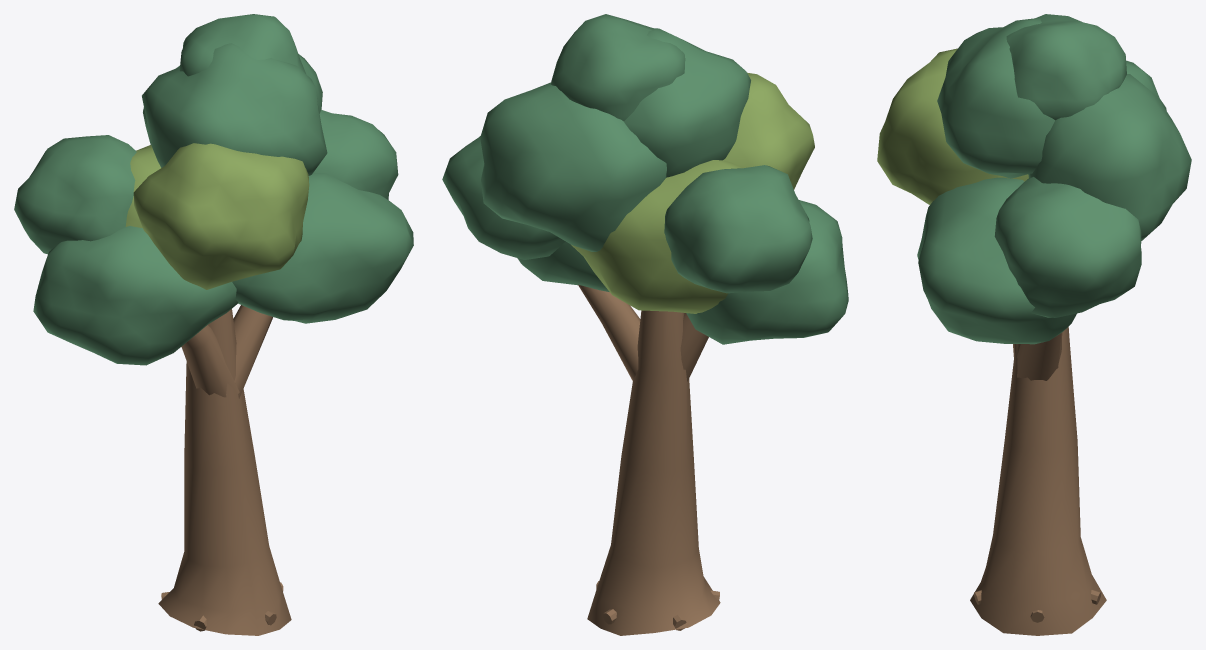
Rendered from AH03_TreeA.fbx.
The picture shows the model from 3 angles, left to right: view 1: azimuth 30°, elevation 25°; view 2: azimuth 150°, elevation 25°; view 3: azimuth 270°, elevation 25°; orthographic projection. The views are drawn at different scales.
Visible parts, largest first — view 1: AH03_TreeA_AH03_Leaf, AH03_TreeA_AH03_Bark, AH03_TreeA_AH03_LeafWarm; view 2: AH03_TreeA_AH03_Leaf, AH03_TreeA_AH03_Bark, AH03_TreeA_AH03_LeafWarm; view 3: AH03_TreeA_AH03_Leaf, AH03_TreeA_AH03_Bark, AH03_TreeA_AH03_LeafWarm.
Part boxes in pixels (<box>): AH03_TreeA_AH03_Leaf: <box>14,14,413,365</box>; AH03_TreeA_AH03_Bark: <box>158,305,291,635</box>; AH03_TreeA_AH03_LeafWarm: <box>125,143,309,289</box>; AH03_TreeA_AH03_Leaf: <box>442,14,848,344</box>; AH03_TreeA_AH03_Bark: <box>578,284,720,635</box>; AH03_TreeA_AH03_LeafWarm: <box>571,72,814,313</box>; AH03_TreeA_AH03_Leaf: <box>917,14,1191,344</box>; AH03_TreeA_AH03_Bark: <box>970,327,1106,635</box>; AH03_TreeA_AH03_LeafWarm: <box>877,48,1028,204</box>.
Bounding box in the file's own units: 446 × 680 × 322.
